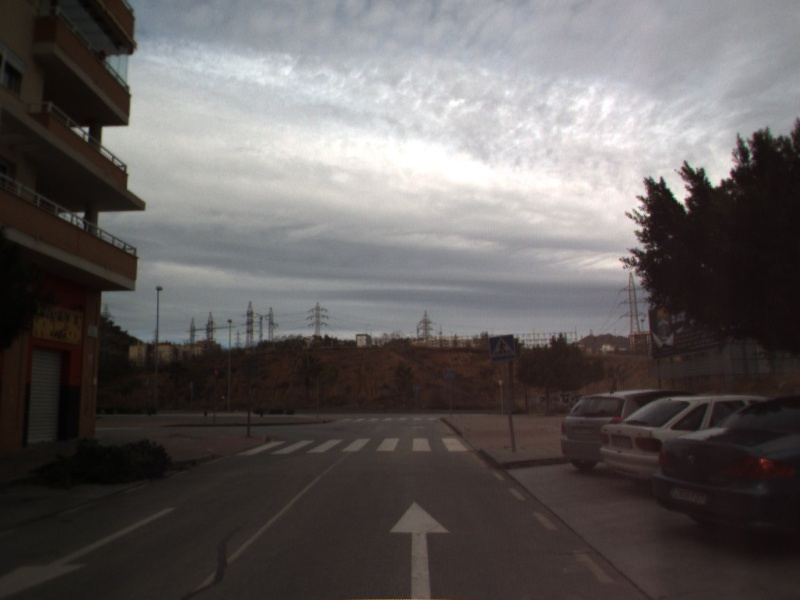STRAIGHT: (387, 499, 453, 600)
